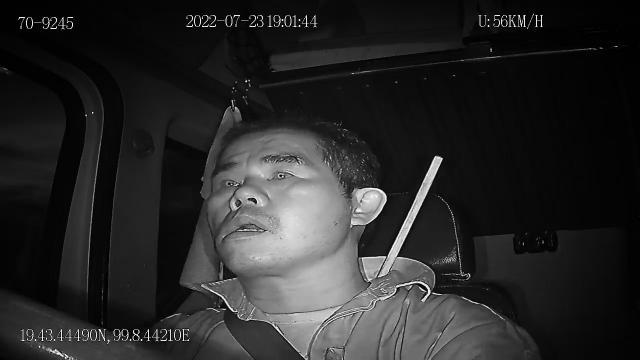SafeDriving: (260, 154, 303, 186), (210, 168, 244, 196)
Seatbelt: (222, 306, 308, 360)
